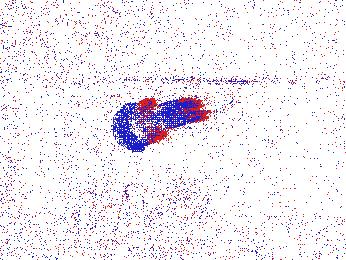flame jellyfish: (111, 96, 207, 150), (61, 193, 121, 239), (101, 182, 148, 228)
